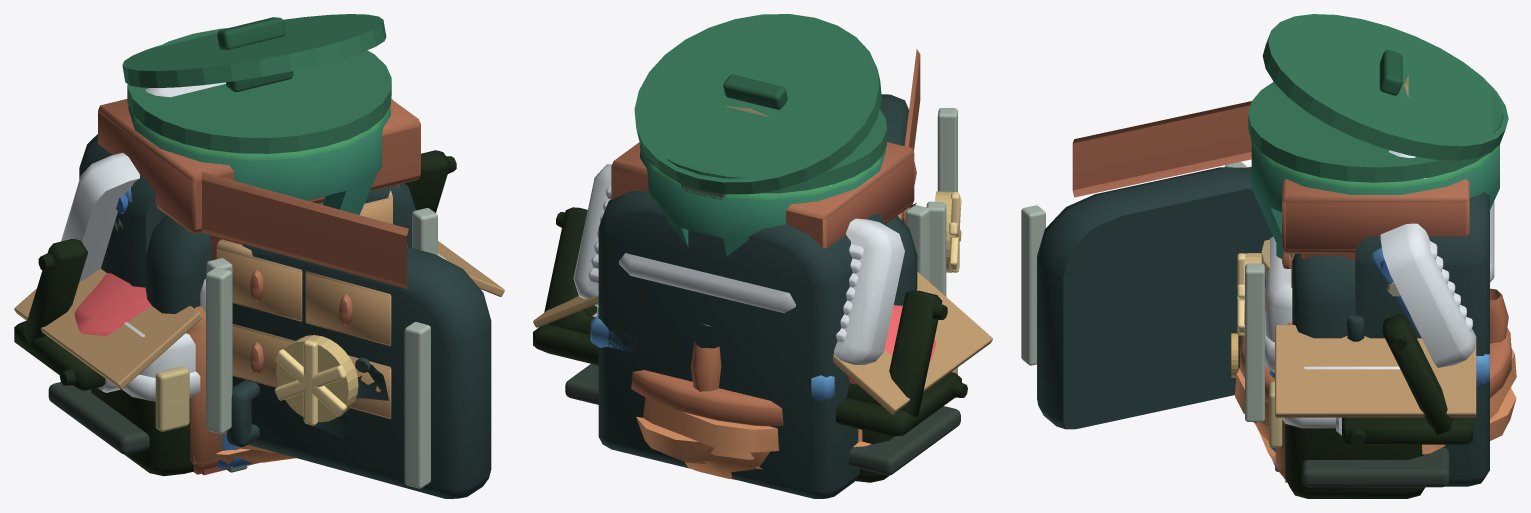
Rendered from container-kit-BwN-CRdf.glb.
The picture shows the model from 3 angles, left to right: view 1: azimuth 30°, elevation 25°; view 2: azimuth 150°, elevation 25°; view 3: azimuth 270°, elevation 25°; orthographic projection. The views are drawn at different scales.
Visible parts, largest first — view 1: fridge_door_top.001, opened_original_front, green_bin_lid, green_bin_lid.001, cabinet_medium, trashcan, folded_paper_flap, fridge_door_top, cooler_handle.007, cooler_lid.007, cooler.006, safe_hinge.003 (+18 smaller); view 2: fridge, green_bin_lid.001, picnic_basket_round.002, cooler_lid.007, cooler_handle.007, trashcan, cabinet_medium, folded_paper_flap, cooler_handle.006, foam_liner, cooler_lid.003, green_bin_lid (+12 smaller); view 3: fridge_door_top.001, green_bin_lid.001, folded_paper_flap.001, fridge, opened_original_front, cabinet_medium, green_bin_lid, cooler_lid.007, trashcan, cooler.006, fridge_door_top, picnic_basket_round.002 (+8 smaller).
Part boxes in pixels (left/top/right/bottom): fridge_door_top.001: left=226, top=244, right=491, bottom=498; opened_original_front: left=202, top=172, right=408, bottom=418; green_bin_lid: left=127, top=28, right=391, bottom=153; green_bin_lid.001: left=122, top=14, right=386, bottom=87; cabinet_medium: left=98, top=99, right=420, bottom=234; trashcan: left=128, top=105, right=390, bottom=214; folded_paper_flap: left=14, top=269, right=202, bottom=389; fridge_door_top: left=145, top=183, right=416, bottom=313; cooler_handle.007: left=23, top=150, right=456, bottom=344; cooler_lid.007: left=61, top=97, right=393, bottom=282; cooler.006: left=91, top=371, right=200, bottom=476; safe_hinge.003: left=404, top=322, right=430, bottom=488; fridge: left=598, top=191, right=885, bottom=498; green_bin_lid.001: left=634, top=14, right=881, bottom=194; picnic_basket_round.002: left=631, top=341, right=870, bottom=479; cooler_lid.007: left=573, top=164, right=904, bottom=364; cooler_handle.007: left=544, top=207, right=947, bottom=416; trashcan: left=640, top=148, right=885, bottom=256; cabinet_medium: left=611, top=142, right=914, bottom=248; folded_paper_flap: left=833, top=271, right=992, bottom=414; cooler_handle.006: left=533, top=305, right=967, bottom=436; foam_liner: left=565, top=364, right=960, bottom=475; cooler_lid.003: left=619, top=185, right=831, bottom=312; green_bin_lid: left=639, top=109, right=886, bottom=193; fridge_door_top.001: left=1037, top=167, right=1272, bottom=429; green_bin_lid.001: left=1262, top=14, right=1508, bottom=160; folded_paper_flap.001: left=1275, top=325, right=1476, bottom=417; fridge: left=1347, top=192, right=1489, bottom=486; opened_original_front: left=1072, top=101, right=1251, bottom=197; cabinet_medium: left=1282, top=179, right=1469, bottom=287; green_bin_lid: left=1248, top=82, right=1503, bottom=182; cooler_lid.007: left=1380, top=223, right=1475, bottom=367; trashcan: left=1251, top=141, right=1499, bottom=258; cooler.006: left=1282, top=417, right=1425, bottom=498; fridge_door_top: left=1292, top=253, right=1355, bottom=338; picnic_basket_round.002: left=1235, top=288, right=1516, bottom=463.
Size of the model in its own units: 68 by 64.6 by 73.82.
Materials: 86 (42 with a texture image).
